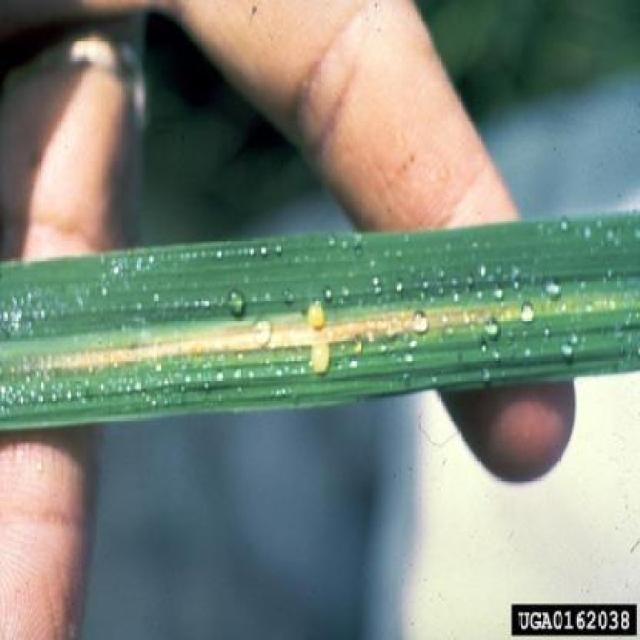Brown_Spot: (0, 275, 635, 387)
